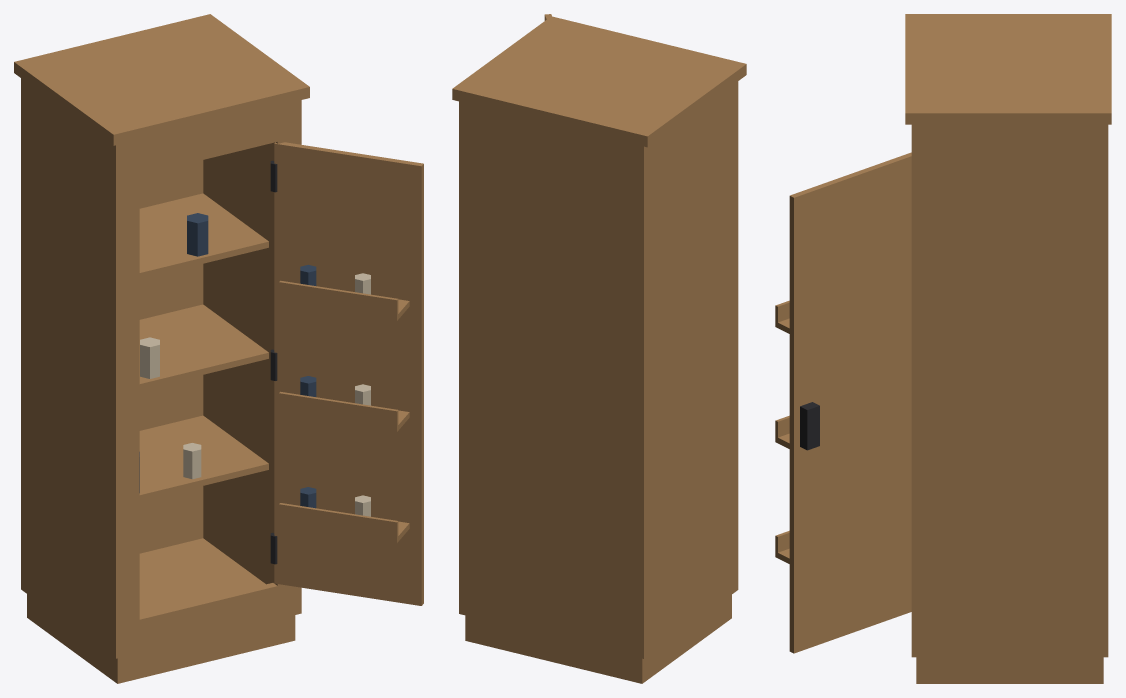
Rendered from FN_Cabinet_Larder.obj.
3 views of the same model, side by side, from view 1: azimuth 30°, elevation 25°; view 2: azimuth 150°, elevation 25°; view 3: azimuth 270°, elevation 25° (orthographic). The views are drawn at different scales.
Visible parts, largest first — view 1: FN_Cabinet_Larder; view 2: FN_Cabinet_Larder; view 3: FN_Cabinet_Larder.
Part boxes in pixels (left/top/right/bottom): FN_Cabinet_Larder: left=14, top=14, right=423, bottom=683; FN_Cabinet_Larder: left=452, top=14, right=746, bottom=683; FN_Cabinet_Larder: left=775, top=14, right=1111, bottom=683.
Bounding box in the file's own units: 0.9804 × 2 × 1.06.
Materials: 1 (1 with a texture image).
